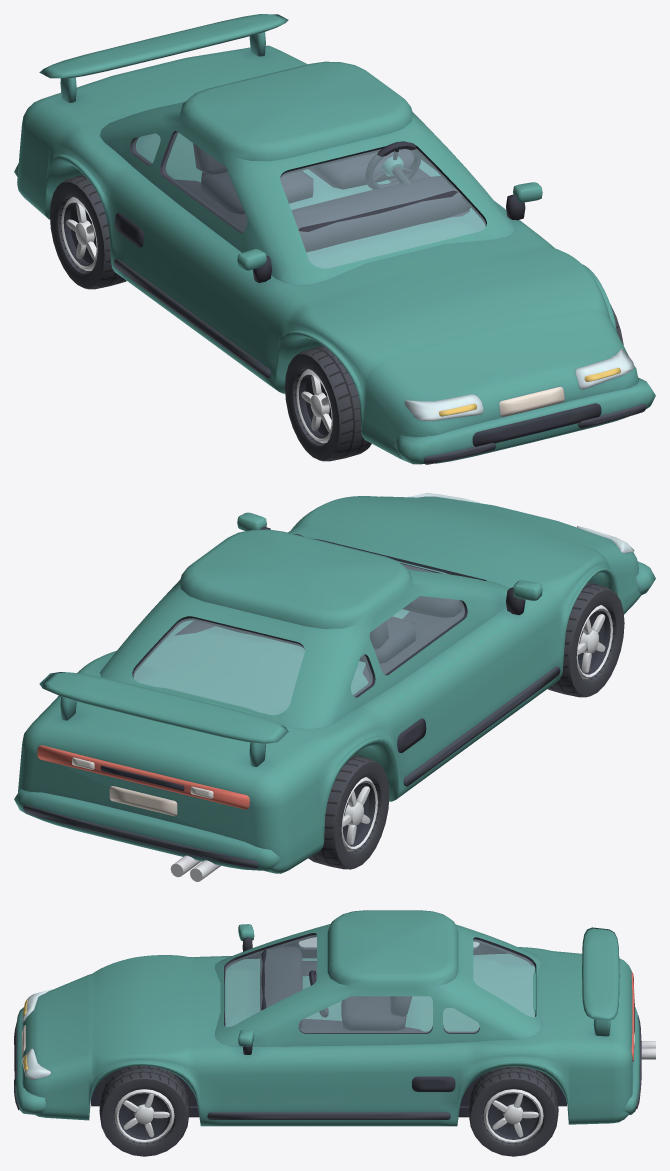
The model's file is bavaria.glb.
3 renders of one model, top to bottom at view 1: azimuth 30°, elevation 25°; view 2: azimuth 150°, elevation 25°; view 3: azimuth 270°, elevation 25°, orthographic. The views are drawn at different scales.
Parts seen in each view (by area): view 1: 1990s-sports-car_body, 1990s-sports-car_windows, 1990s-sports-car_wheel_fr, 1990s-sports-car_wheel_rr; view 2: 1990s-sports-car_body, 1990s-sports-car_windows, 1990s-sports-car_wheel_rr, 1990s-sports-car_wheel_fr; view 3: 1990s-sports-car_body, 1990s-sports-car_windows, 1990s-sports-car_wheel_fl, 1990s-sports-car_wheel_rl.
Boxes of the visible parts, bbox=[...] form: 1990s-sports-car_body: bbox=[14, 14, 655, 464]; 1990s-sports-car_windows: bbox=[133, 131, 485, 268]; 1990s-sports-car_wheel_fr: bbox=[285, 346, 371, 461]; 1990s-sports-car_wheel_rr: bbox=[50, 174, 126, 289]; 1990s-sports-car_body: bbox=[14, 493, 655, 881]; 1990s-sports-car_windows: bbox=[133, 562, 464, 714]; 1990s-sports-car_wheel_rr: bbox=[308, 754, 389, 869]; 1990s-sports-car_wheel_fr: bbox=[548, 582, 624, 697]; 1990s-sports-car_body: bbox=[14, 910, 655, 1126]; 1990s-sports-car_windows: bbox=[225, 935, 534, 1032]; 1990s-sports-car_wheel_fl: bbox=[99, 1065, 189, 1156]; 1990s-sports-car_wheel_rl: bbox=[468, 1066, 558, 1156].
Bounding box in the file's own units: 1.88 × 1.23 × 4.42.
Materials: 18 (5 with a texture image).
